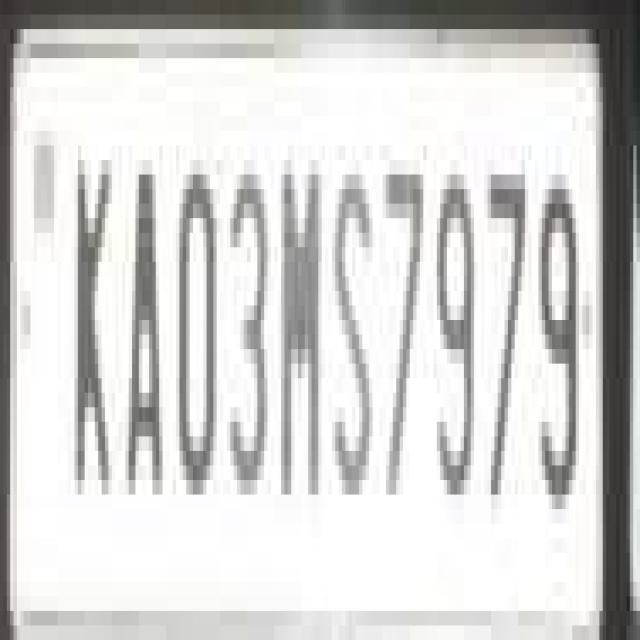plate: (0, 14, 619, 640)
